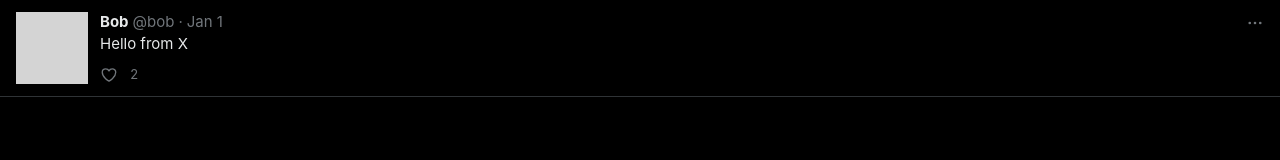
Test: TweetCard › offers Unfollow when the current user already follows the author
The width and height of the screenshot is (1280, 160).
Click the button named "More": (1255, 23) [1238,6,1272,40]
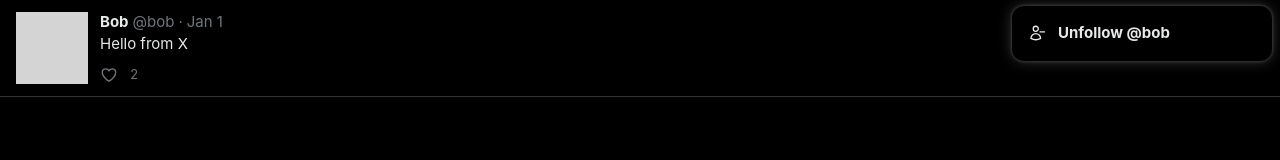
Result: the button "Unfollow @bob" is shown at [1012,10,1272,56]
